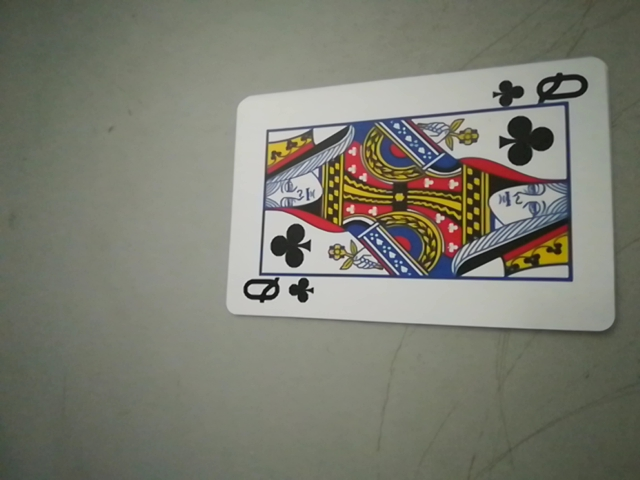mh q: (493, 68, 591, 110), (238, 272, 320, 314)
